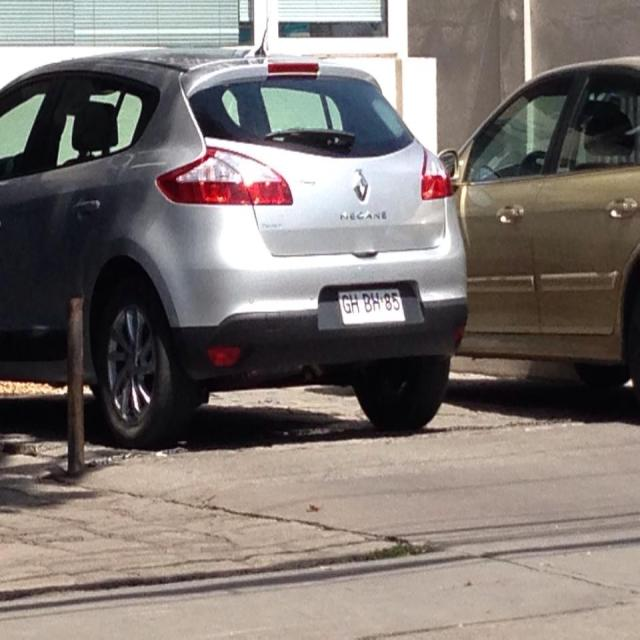patente: (337, 286, 406, 326)
